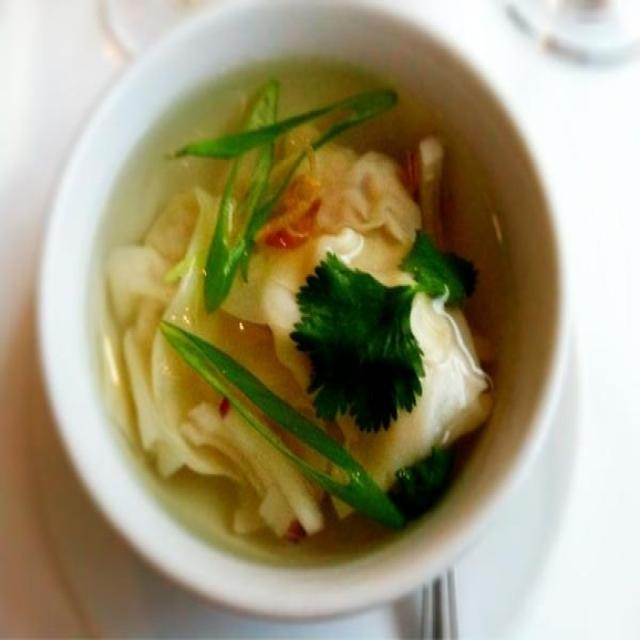汤锅炖物: (38, 24, 564, 607)
